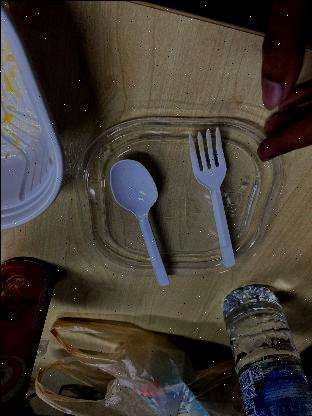Others: (178, 120, 248, 268), (105, 160, 177, 293)
